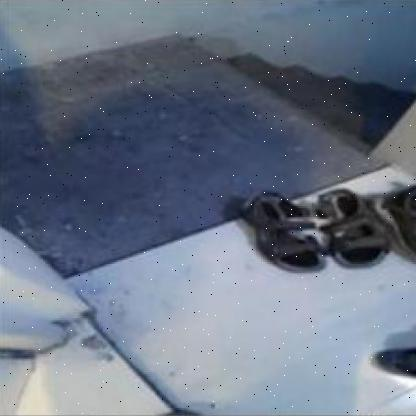stair_down: (196, 6, 394, 145)
